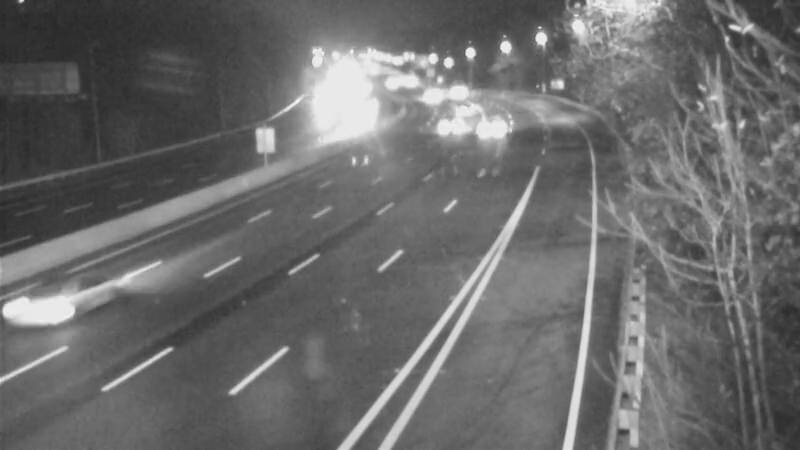vehicle: (1, 253, 103, 363), (439, 64, 489, 114), (404, 68, 454, 118), (437, 83, 487, 133), (465, 99, 515, 149), (422, 100, 472, 150), (347, 91, 397, 141)
